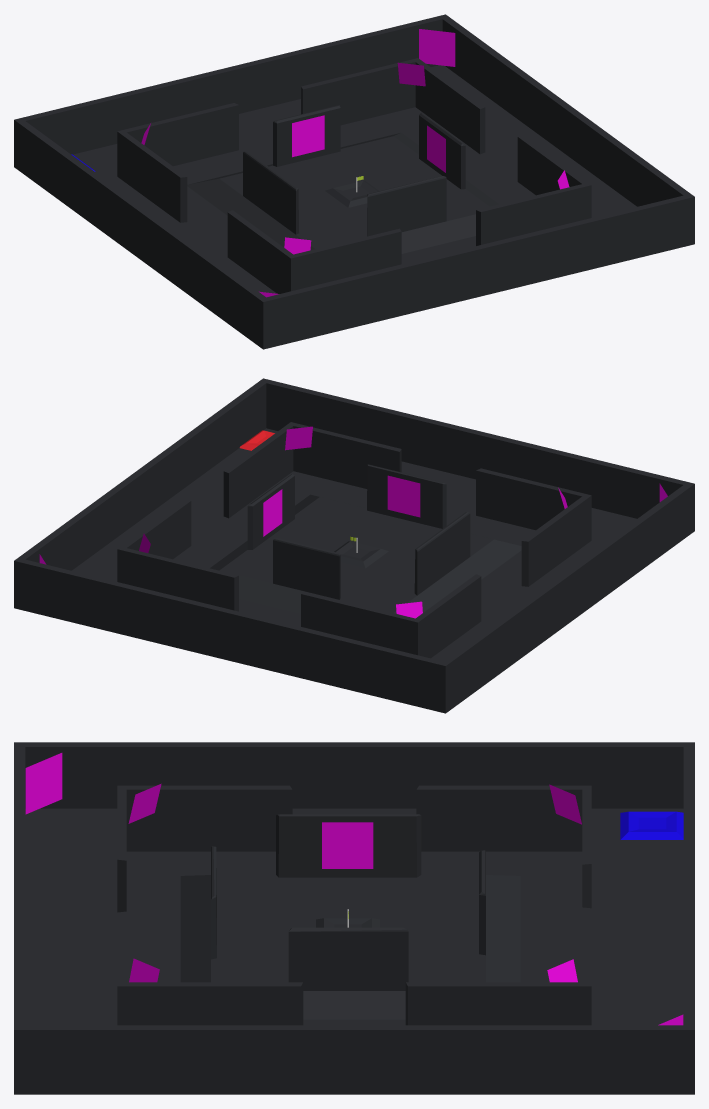
The model's file is module_3.glb.
The picture shows the model from 3 angles, top to bottom: view 1: azimuth 30°, elevation 25°; view 2: azimuth 150°, elevation 25°; view 3: azimuth 270°, elevation 25°; orthographic projection. The views are drawn at different scales.
Visible parts, largest first — view 1: SCENE, MIRROR_0, MIRROR_4, MIRROR_3, MIRROR_6.001; view 2: SCENE, MIRROR_5, MIRROR_3, MIRROR_6; view 3: SCENE, MIRROR_2, SO_SPAWN_T0_INCLUDEMESH, MIRROR_1, MIRROR_6.003, MIRROR_6.002, MIRROR_6, MIRROR_6.001.
Part boxes in pixels (box(x1,y1,x2,y2)): SCENE: box(14, 14, 694, 349); MIRROR_0: box(419, 29, 455, 66); MIRROR_4: box(292, 115, 324, 157); MIRROR_3: box(427, 125, 445, 172); MIRROR_6.001: box(397, 62, 425, 86); SCENE: box(14, 378, 694, 713); MIRROR_5: box(387, 475, 420, 517); MIRROR_3: box(263, 489, 282, 536); MIRROR_6: box(285, 426, 312, 450); SCENE: box(14, 742, 694, 1094); MIRROR_2: box(322, 822, 373, 868); SO_SPAWN_T0_INCLUDEMESH: box(620, 811, 683, 839); MIRROR_1: box(25, 753, 62, 814); MIRROR_6.003: box(128, 783, 161, 823); MIRROR_6.002: box(549, 784, 581, 824); MIRROR_6: box(129, 958, 159, 982); MIRROR_6.001: box(547, 959, 577, 982).
Bounding box in the file's own units: 26.47 × 3.41 × 26.47.
